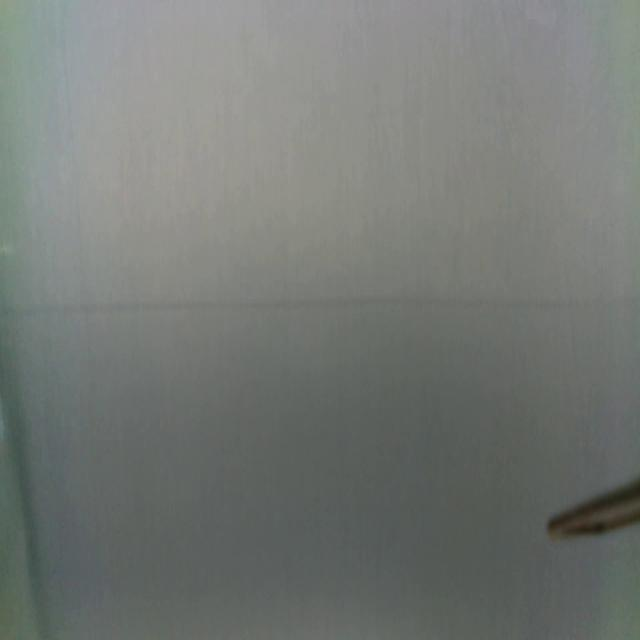color bleeding: (0, 288, 640, 322)
